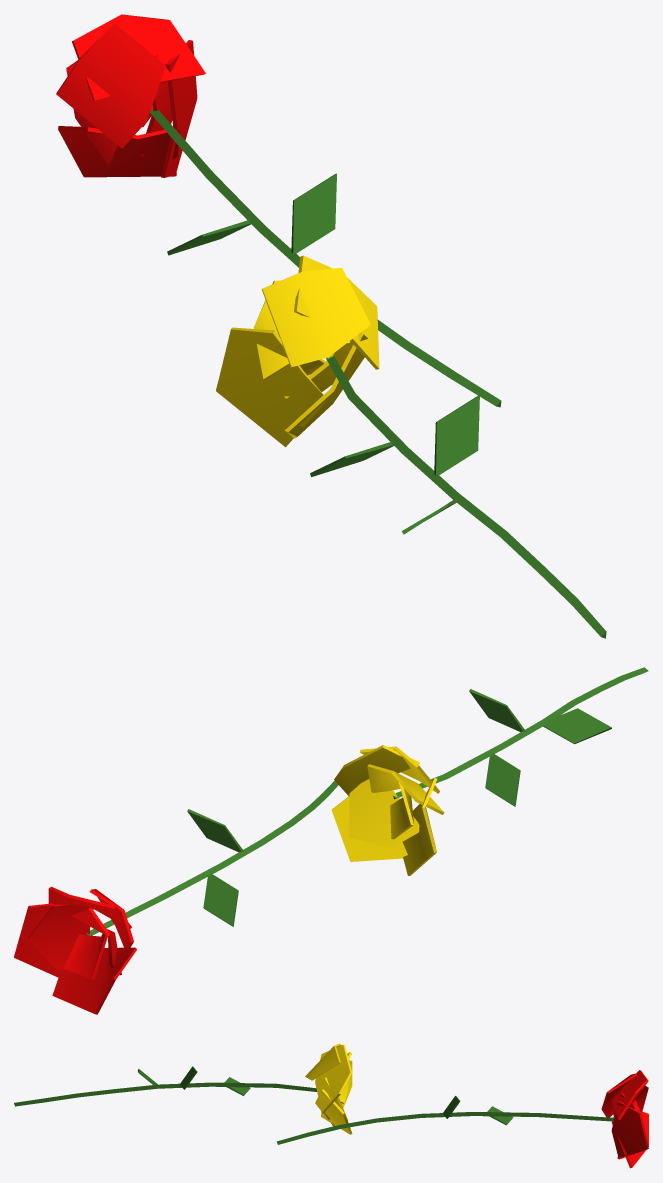
File: flowers.FBX
3 views of the same model, one above another, from view 1: azimuth 30°, elevation 25°; view 2: azimuth 150°, elevation 25°; view 3: azimuth 270°, elevation 25° (orthographic). The views are drawn at different scales.
Parts seen in each view (by area): view 1: Flower-two, Flower-one; view 2: Flower-two, Flower-one; view 3: Flower-one, Flower-two.
Boxes of the visible parts, <box> form: Flower-two: <box>216,255,606,638</box>; Flower-one: <box>56,14,501,407</box>; Flower-two: <box>331,667,648,875</box>; Flower-one: <box>14,781,338,1014</box>; Flower-one: <box>277,1070,648,1168</box>; Flower-two: <box>14,1043,352,1134</box>.
Size of the model in its own units: 35.42 by 19.84 by 128.
